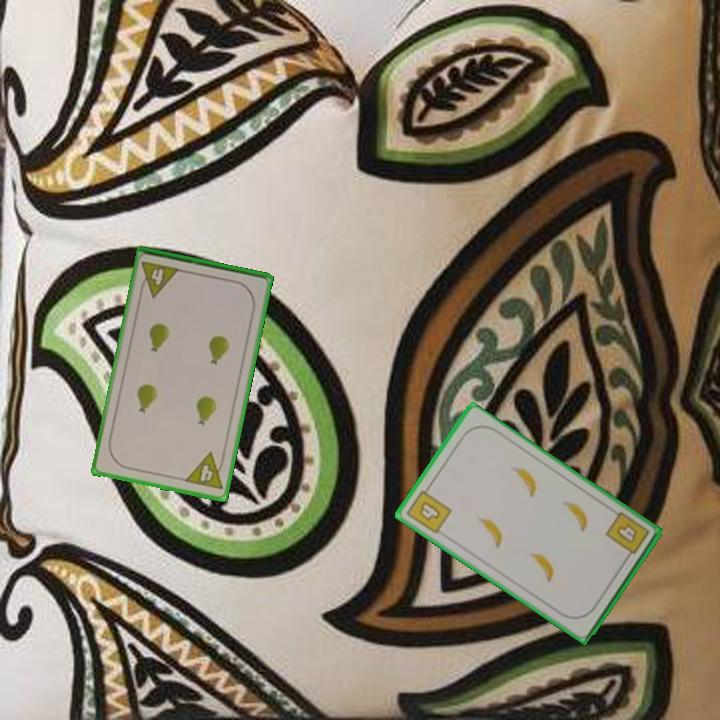4b: (403, 482, 454, 537), (602, 508, 652, 564)
4p: (181, 449, 228, 493), (136, 258, 183, 300)
